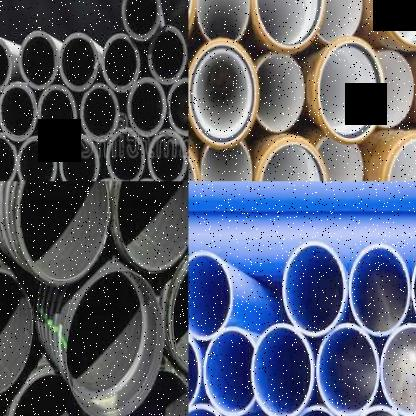pipe: (63, 269, 164, 416), (19, 181, 109, 282), (188, 38, 260, 148), (318, 40, 384, 144), (116, 181, 188, 272), (282, 242, 346, 338), (316, 322, 380, 416), (250, 322, 314, 416), (350, 244, 410, 336), (204, 326, 257, 416), (0, 270, 34, 397), (4, 369, 90, 416), (188, 251, 232, 340), (256, 54, 305, 133), (112, 368, 188, 416), (254, 0, 326, 50), (381, 322, 416, 416), (377, 50, 414, 128), (258, 142, 328, 181), (168, 250, 188, 376), (148, 25, 187, 84), (19, 31, 59, 88), (102, 33, 140, 93), (0, 80, 37, 141), (128, 77, 166, 136), (38, 85, 76, 144), (60, 33, 98, 91), (81, 84, 119, 142), (197, 0, 249, 41), (316, 137, 364, 181), (148, 129, 188, 181), (106, 127, 144, 181), (316, 0, 363, 43), (201, 142, 252, 181), (60, 135, 99, 181), (18, 135, 57, 181), (122, 0, 160, 40), (385, 0, 416, 47), (387, 137, 416, 181), (167, 78, 188, 136), (188, 326, 201, 416), (0, 133, 18, 181), (0, 34, 12, 93), (284, 405, 347, 416), (348, 405, 410, 416), (411, 240, 416, 336)
